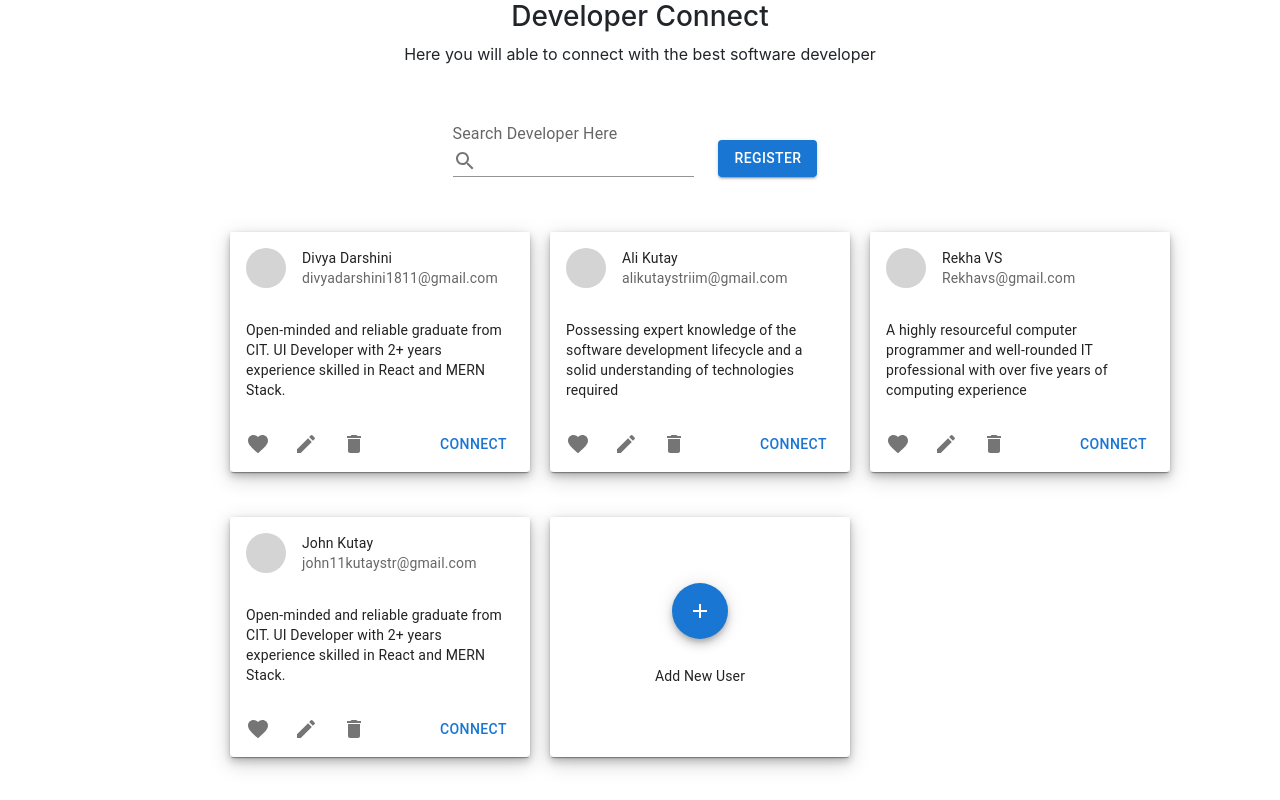
it: Adding new user test › Developer already exist
Click the button named "add".
click(700, 611)  # box x1=672 y1=583 x2=728 y2=639
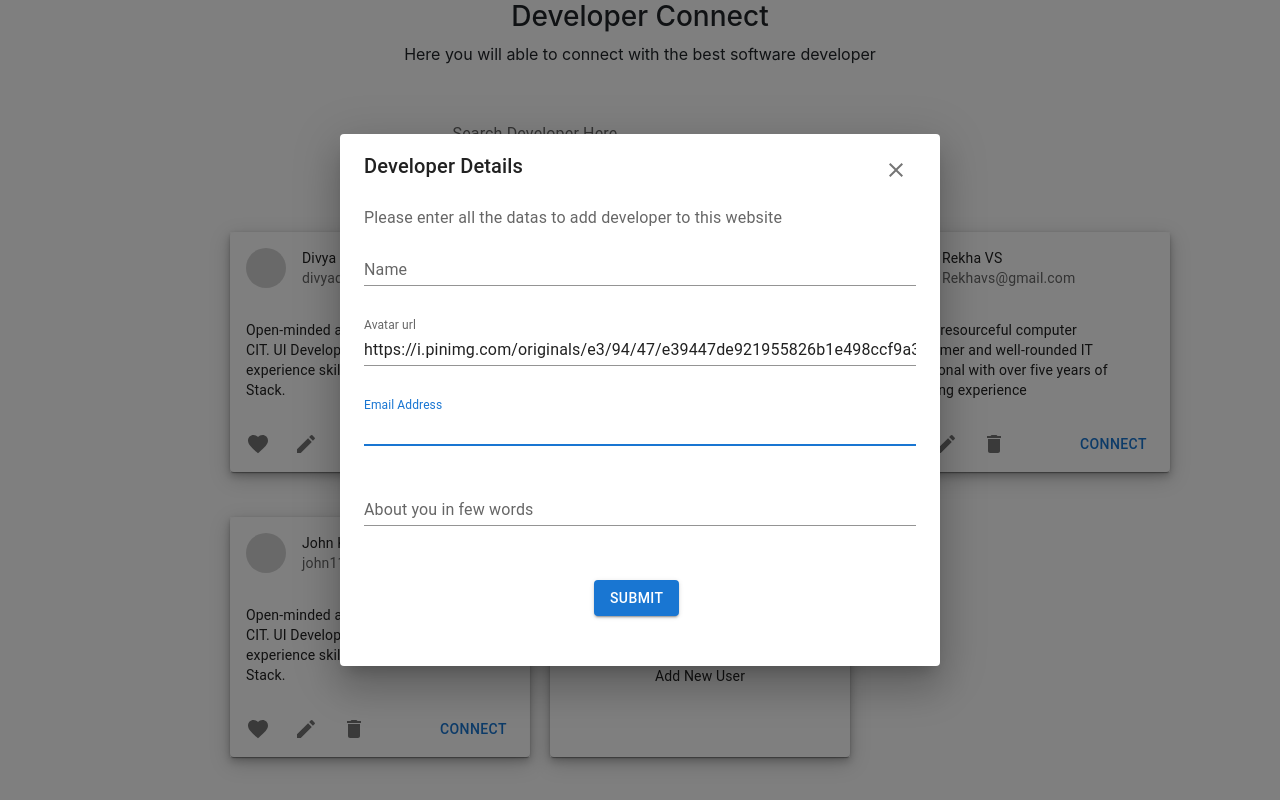
Type "Divia" into the field with id "name".
click(640, 270); type("Divia")  # box x1=364 y1=254 x2=916 y2=286
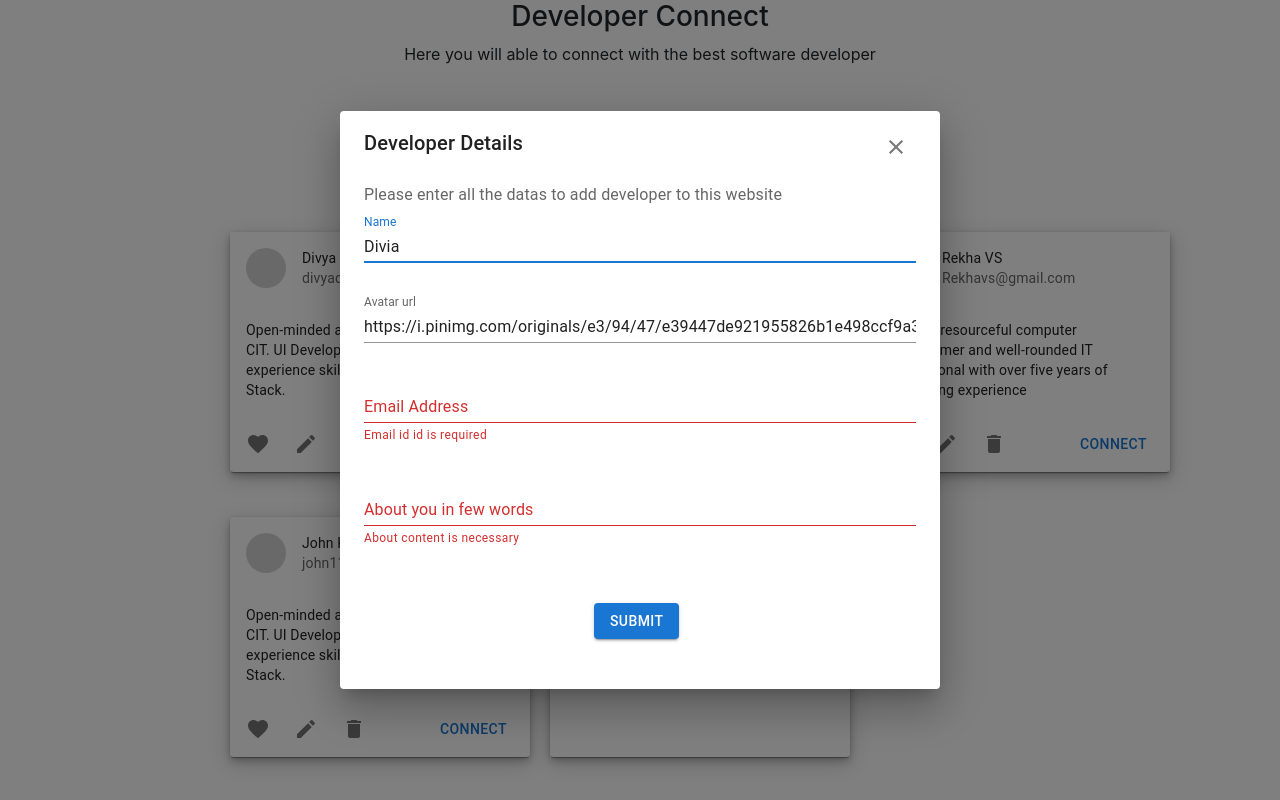
Type "divyadarshini1811@gmail.com" into the field with id "email".
click(640, 407); type("divyadarshini1811@gmail.com")  # box x1=364 y1=391 x2=916 y2=423
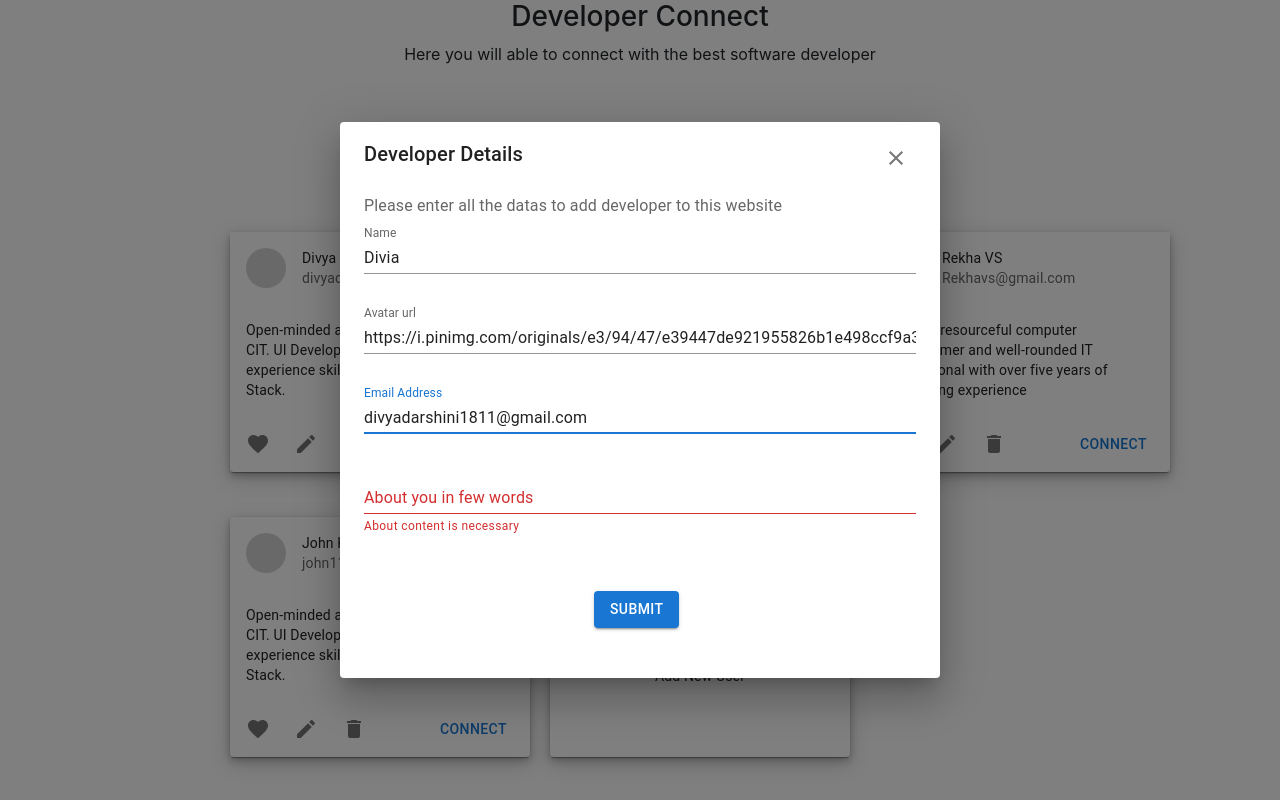
Type "Hi I am a web developer from CIT. I work on MERN" into the field labelled "About you in few words".
click(640, 498); type("Hi I am a web developer from CIT. I work on MERN")  # box x1=364 y1=482 x2=916 y2=514
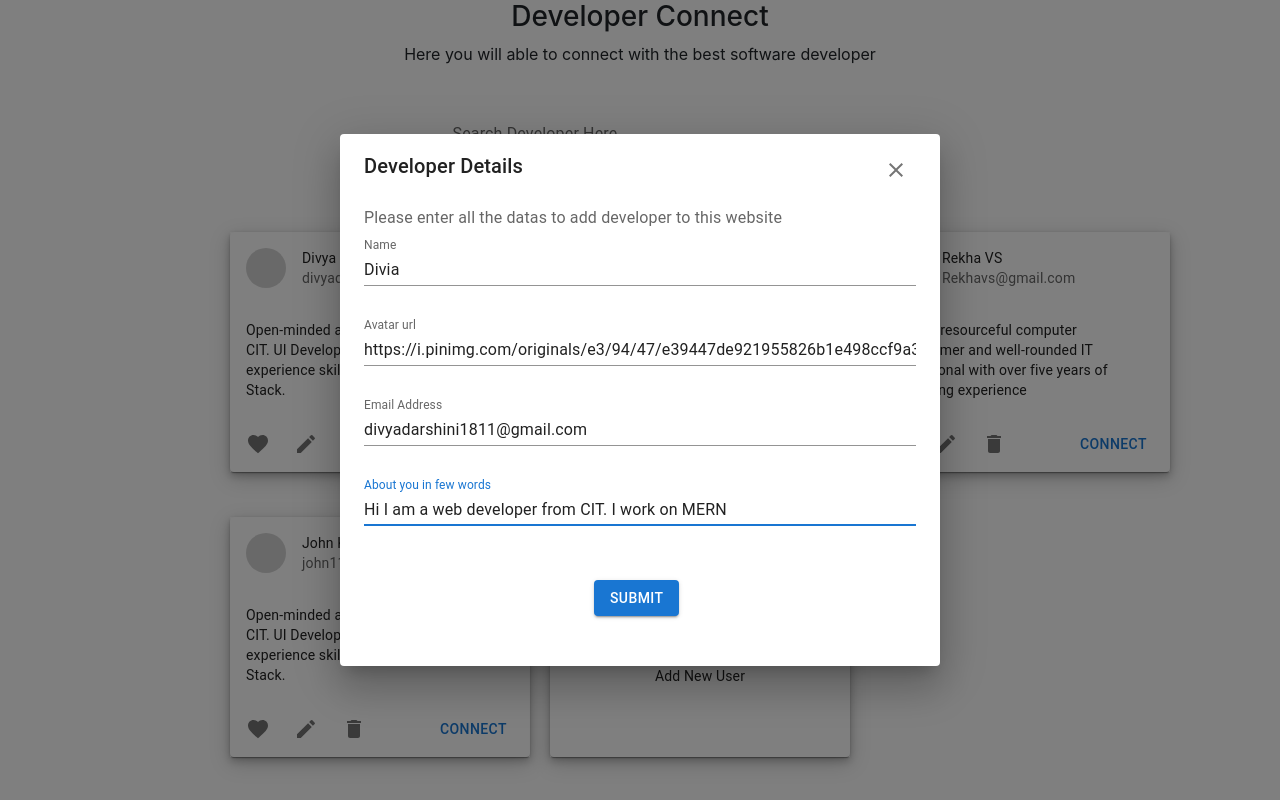
Click the button "Submit".
click(637, 599)  # box x1=594 y1=580 x2=679 y2=617
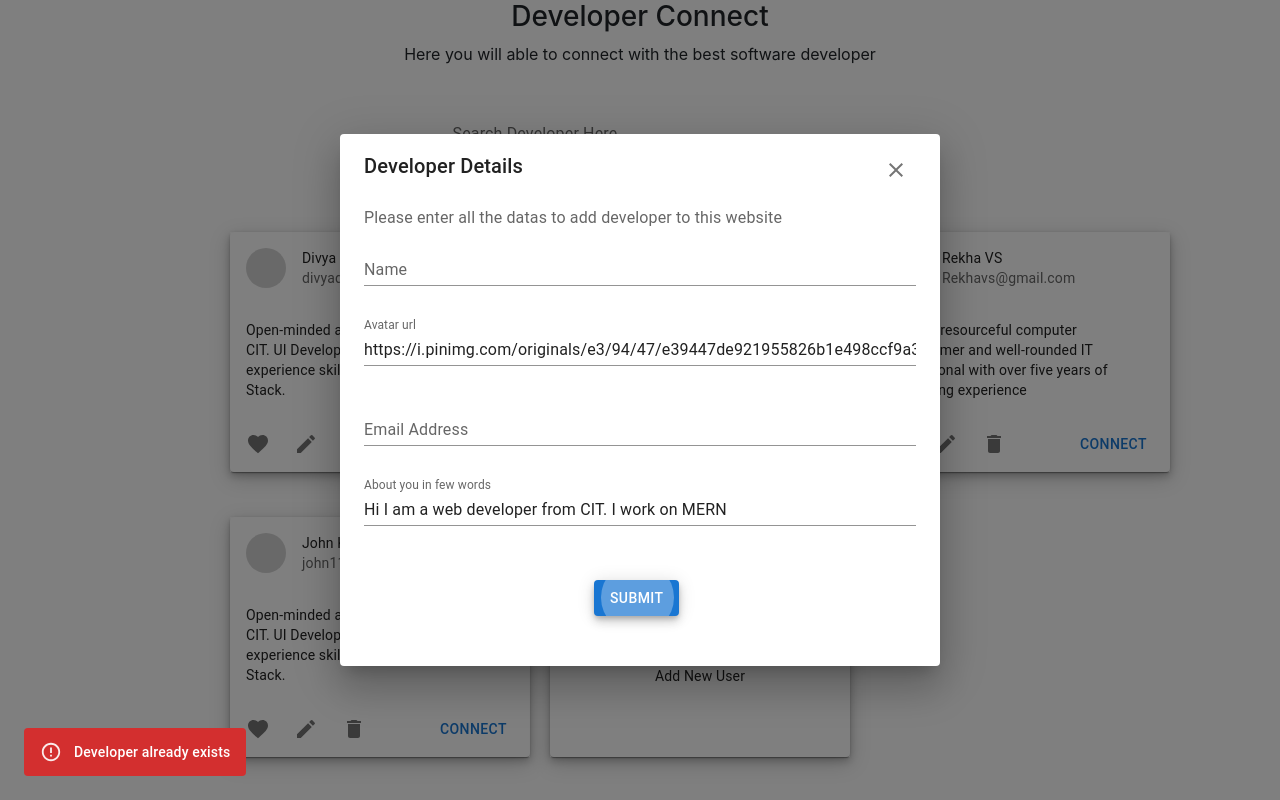
Now the text "Developer already exists" is shown, box x1=74 y1=744 x2=230 y2=760
